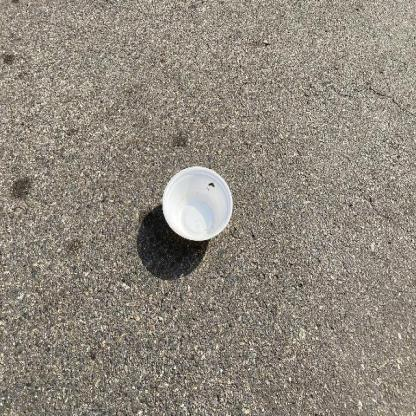Glass Cup: (160, 165, 233, 242), (162, 166, 233, 240)
